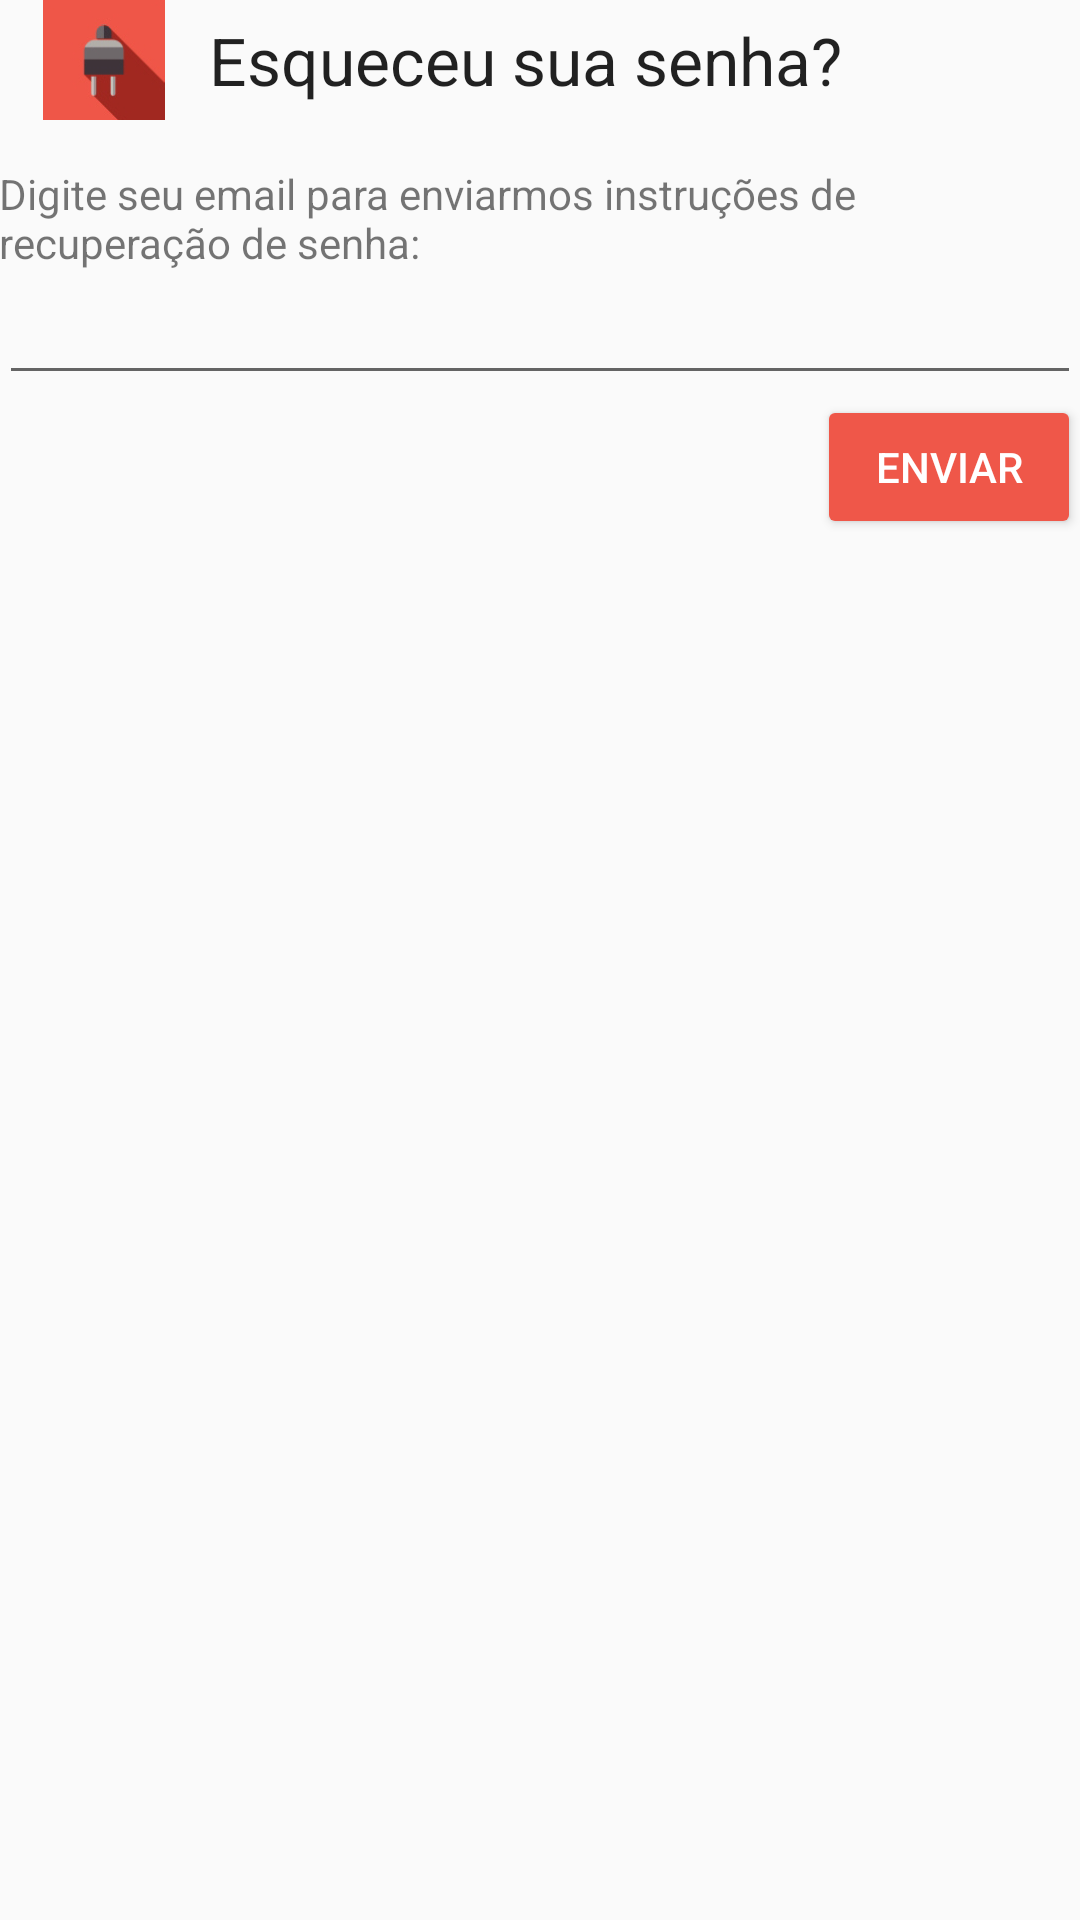

Where to tap for icons on this 1080x1920 app screen, as point (x, y):
tomada: point (104, 60)
